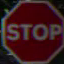Stop: (2, 8, 62, 52)
